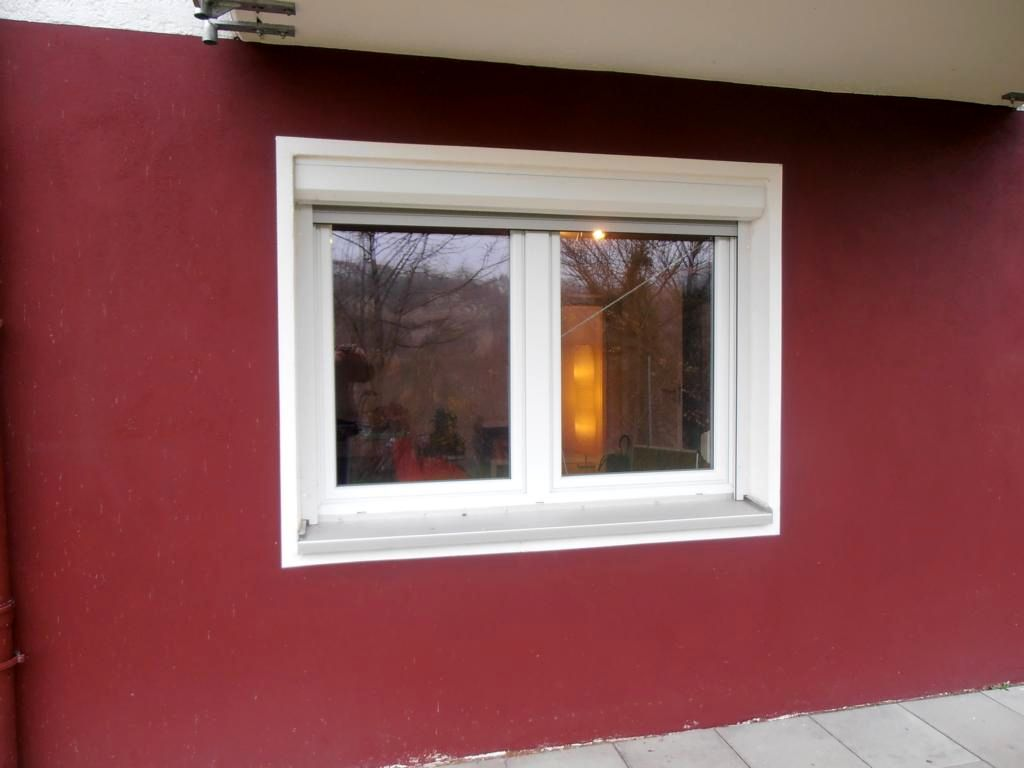windows: (272, 138, 779, 539)
